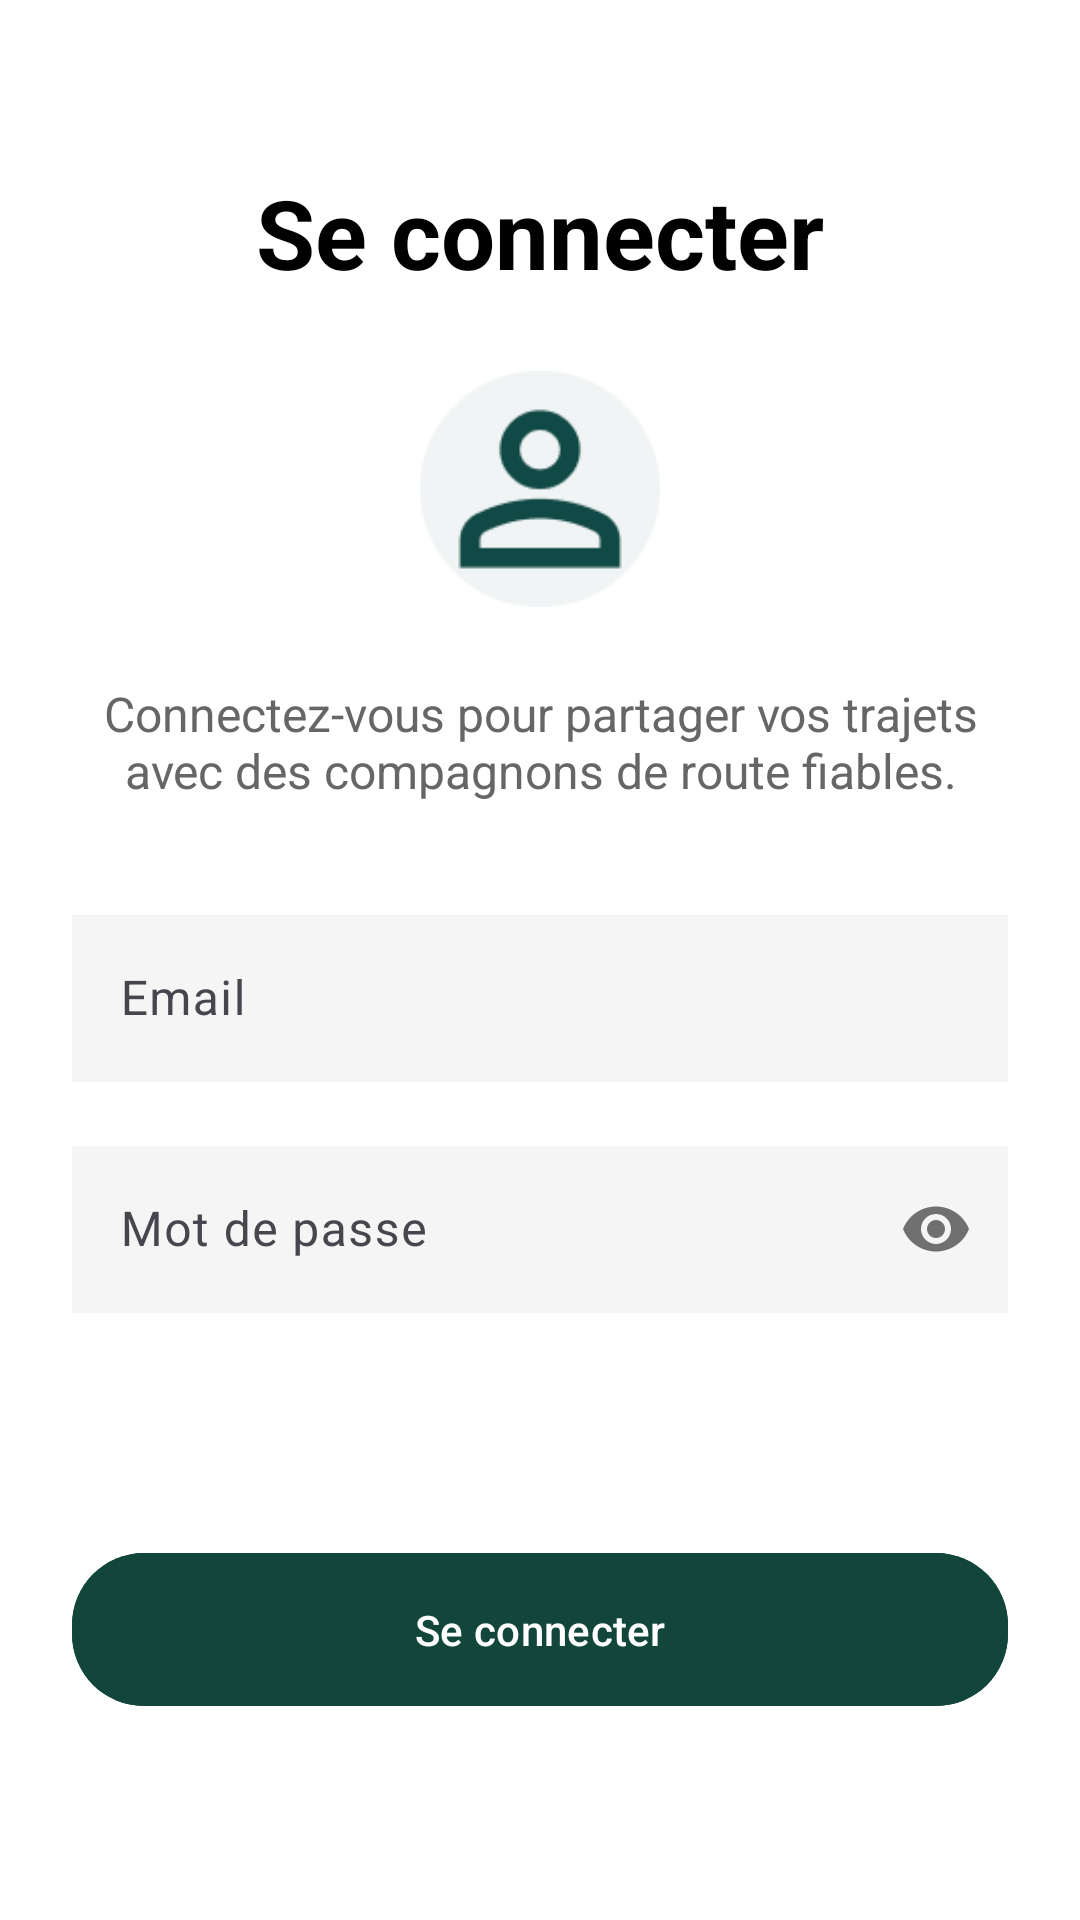

Screen size 1080 x 1920. Icon name, then its center in pixels as (x=x, y=y):
person: (x=540, y=489)
